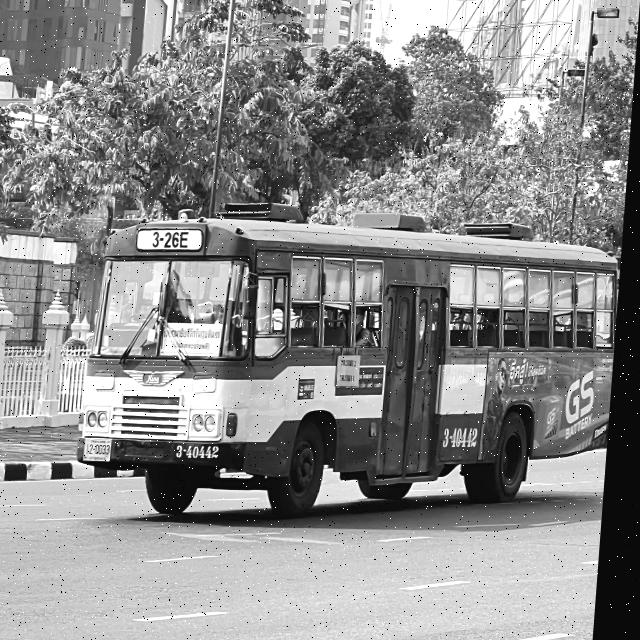BMTA-bus: (77, 207, 628, 518)
Bus-Line-Number: (147, 226, 198, 251)
Destination-Sign-Normal-Expressway: (165, 320, 232, 361)
